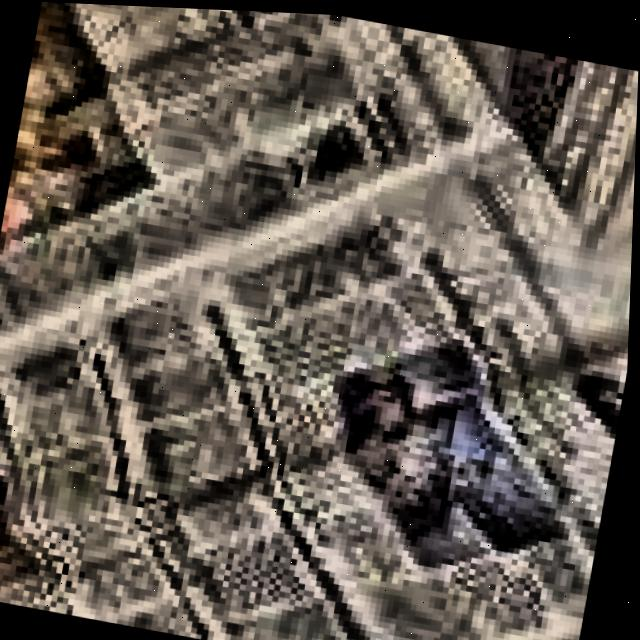paper: (0, 1, 639, 640)
